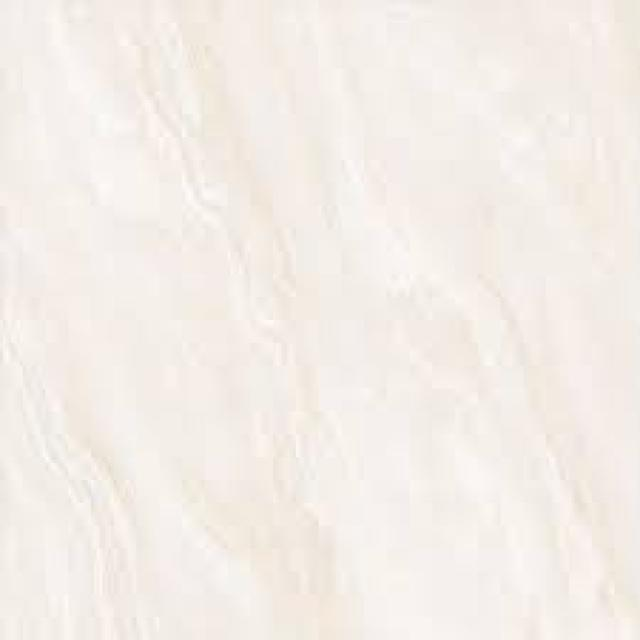Metamorphic: (3, 3, 620, 620)
